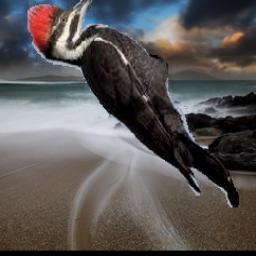Woodpecker: (28, 0, 250, 208)
